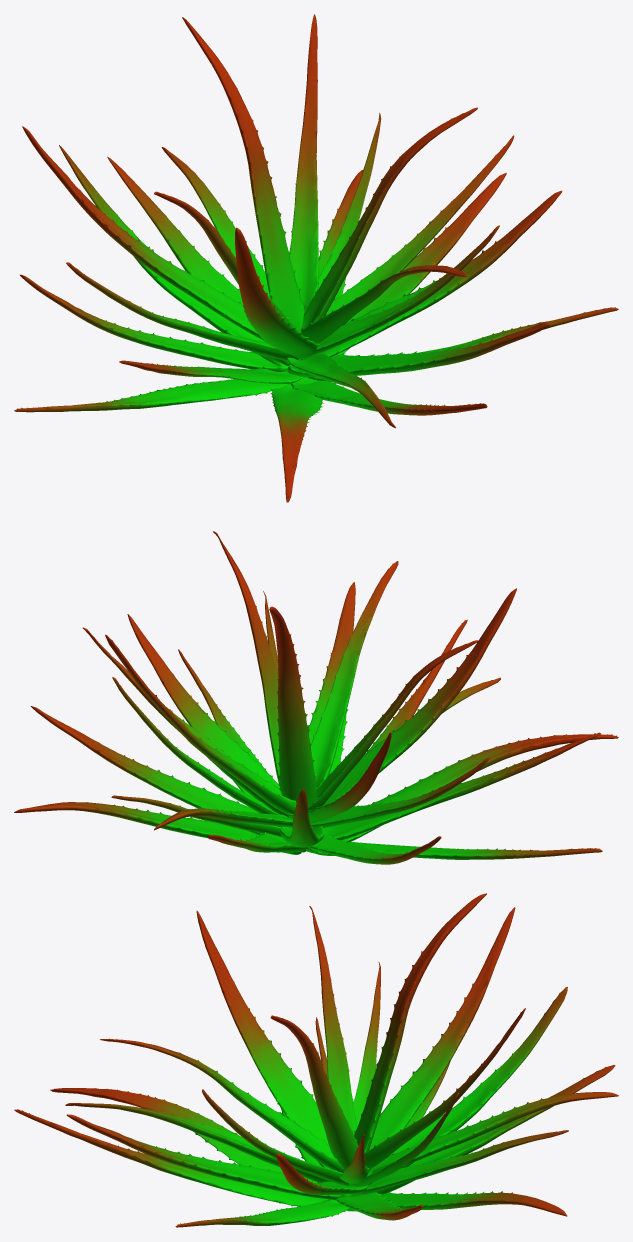
Rendered from Aloe Vera_LOD2_Var6_ve4tbbrha.fbx.
3 renders of one model, top to bottom at view 1: azimuth 30°, elevation 25°; view 2: azimuth 150°, elevation 25°; view 3: azimuth 270°, elevation 25°, orthographic. The views are drawn at different scales.
Visible parts, largest first — view 1: _xlj3_Var6_LOD2; view 2: _xlj3_Var6_LOD2; view 3: _xlj3_Var6_LOD2.
Part boxes in pixels (left/top/right/bottom): _xlj3_Var6_LOD2: left=14, top=14, right=618, bottom=502; _xlj3_Var6_LOD2: left=14, top=531, right=618, bottom=864; _xlj3_Var6_LOD2: left=14, top=893, right=618, bottom=1227.
Bounding box in the file's own units: 86.78 × 48.95 × 90.05.
